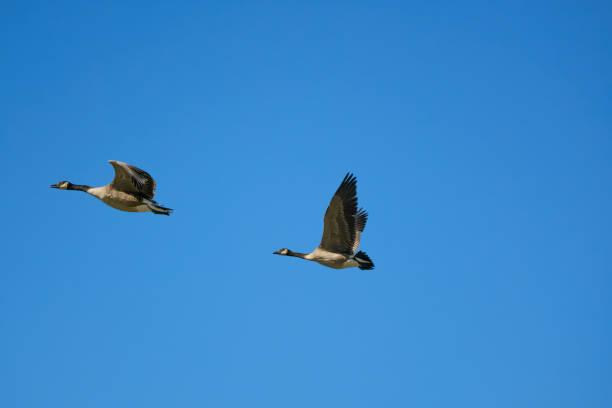Canadian-Goose: (269, 174, 378, 270), (48, 155, 169, 221)
